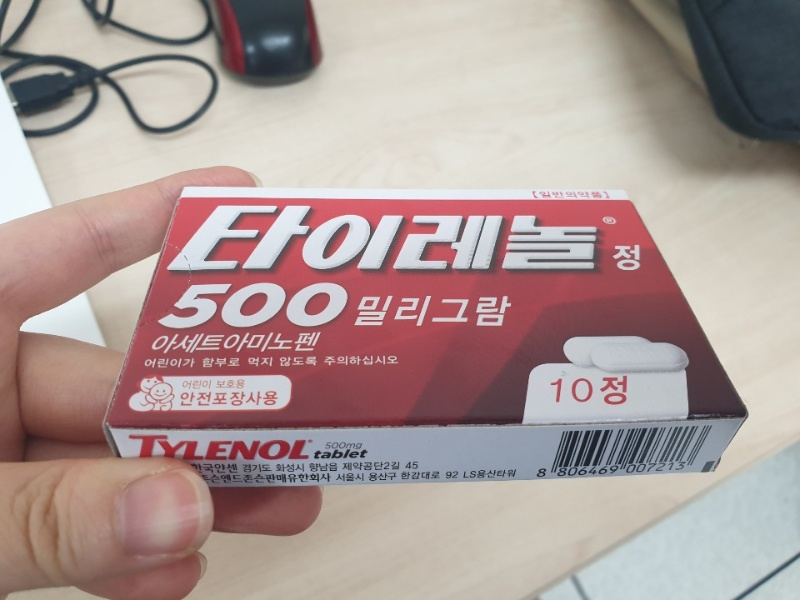tylenol: (107, 186, 748, 487)
